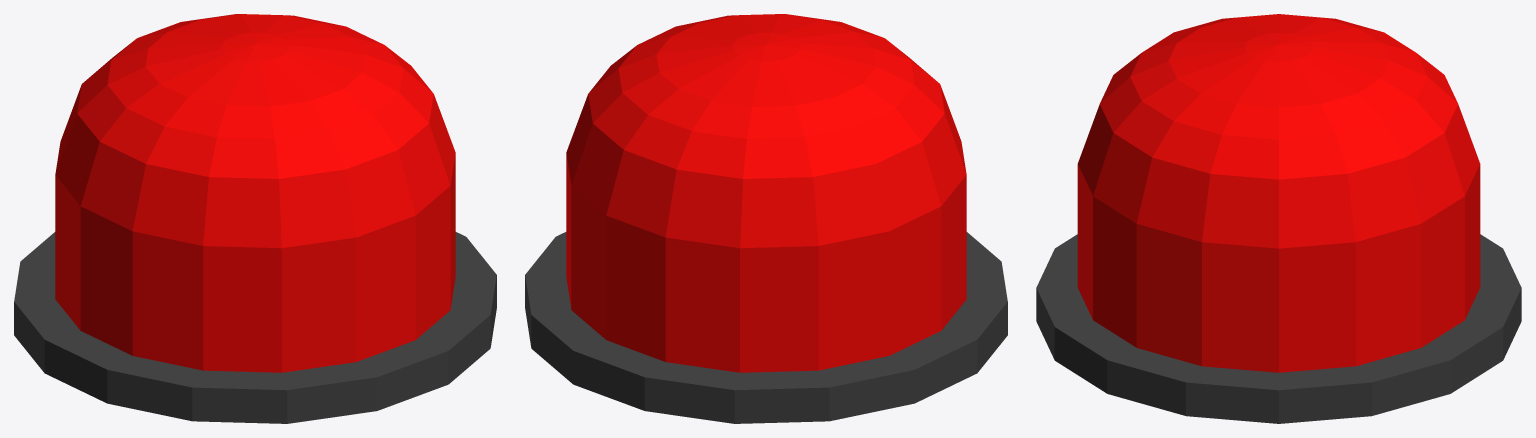
The model's file is Button.fbx.
3 views of the same model, side by side, from view 1: azimuth 30°, elevation 25°; view 2: azimuth 150°, elevation 25°; view 3: azimuth 270°, elevation 25° (orthographic).
Visible parts, largest first — view 1: Cylinder; view 2: Cylinder; view 3: Cylinder.
Boxes of the visible parts, bbox=[...] form: Cylinder: bbox=[14, 14, 496, 423]; Cylinder: bbox=[525, 14, 1007, 423]; Cylinder: bbox=[1036, 14, 1521, 423].
Bounding box in the file's own units: 32.19 × 20.26 × 32.19.
